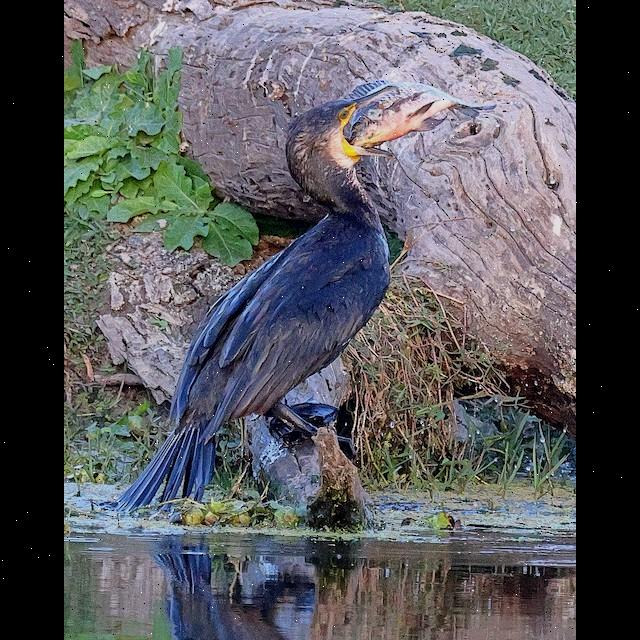cormorant: (130, 68, 414, 526)
